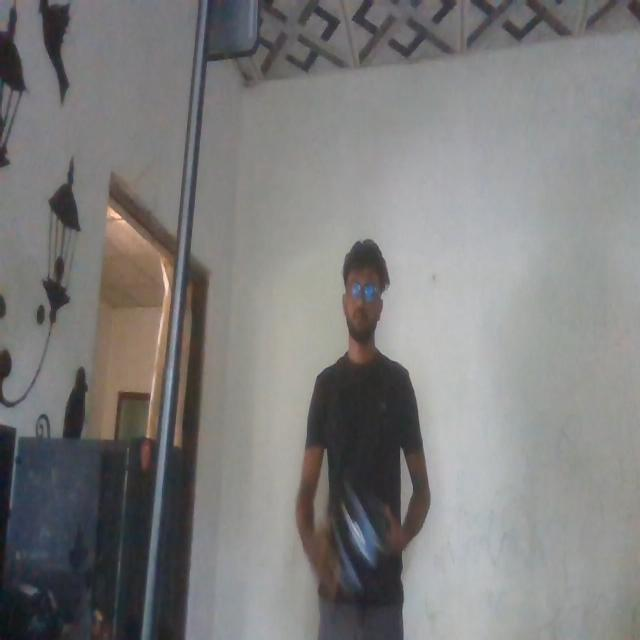Person: (290, 236, 436, 640)
